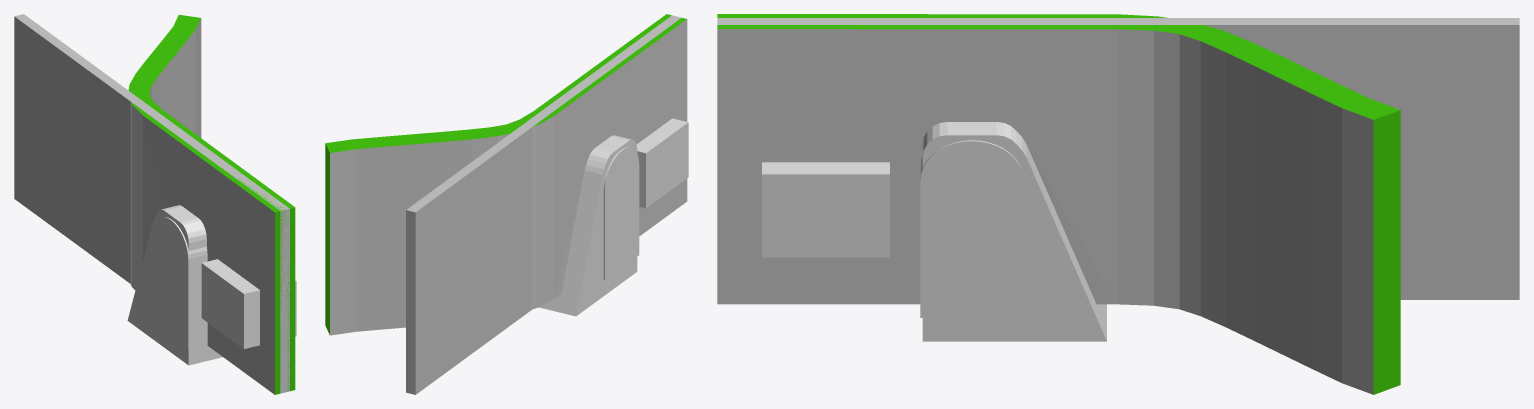
Rendered from Lombricomposta.dae.
The picture shows the model from 3 angles, left to right: view 1: azimuth 30°, elevation 25°; view 2: azimuth 150°, elevation 25°; view 3: azimuth 270°, elevation 25°; orthographic projection. The views are drawn at different scales.
Visible parts, largest first — view 1: Cube, Cube-008, Cube-003, Cube-007, Cube-006, Cube-004; view 2: Cube, Cube-008, Cube-006, Cube-003, Cube-007; view 3: Cube, Cube-008, Cube-003, Cube-006, Cube-007, Cube-004.
Boxes of the visible parts, <box> form: Cube: <box>128,14,295,394</box>; Cube-008: <box>14,14,289,393</box>; Cube-003: <box>154,217,207,349</box>; Cube-007: <box>201,259,296,348</box>; Cube-006: <box>127,205,222,365</box>; Cube-004: <box>156,211,188,363</box>; Cube: <box>325,14,687,335</box>; Cube-008: <box>406,15,681,394</box>; Cube-006: <box>539,135,637,316</box>; Cube-003: <box>603,147,639,279</box>; Cube-007: <box>636,118,688,208</box>; Cube: <box>717,14,1400,394</box>; Cube-008: <box>717,18,1519,299</box>; Cube-003: <box>920,140,1023,317</box>; Cube-006: <box>922,122,1106,341</box>; Cube-007: <box>762,162,889,257</box>; Cube-004: <box>922,135,1021,341</box>.
Size of the model in its own units: 17.71 by 20.56 by 49.95.
